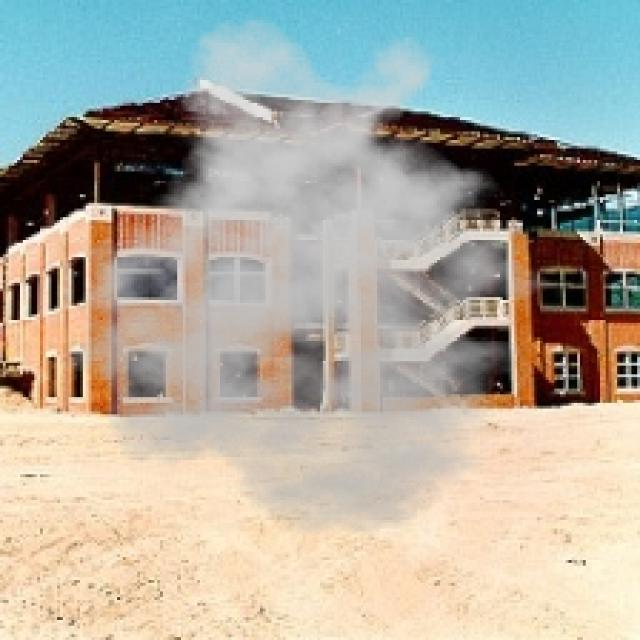smoke: (52, 14, 574, 537)
